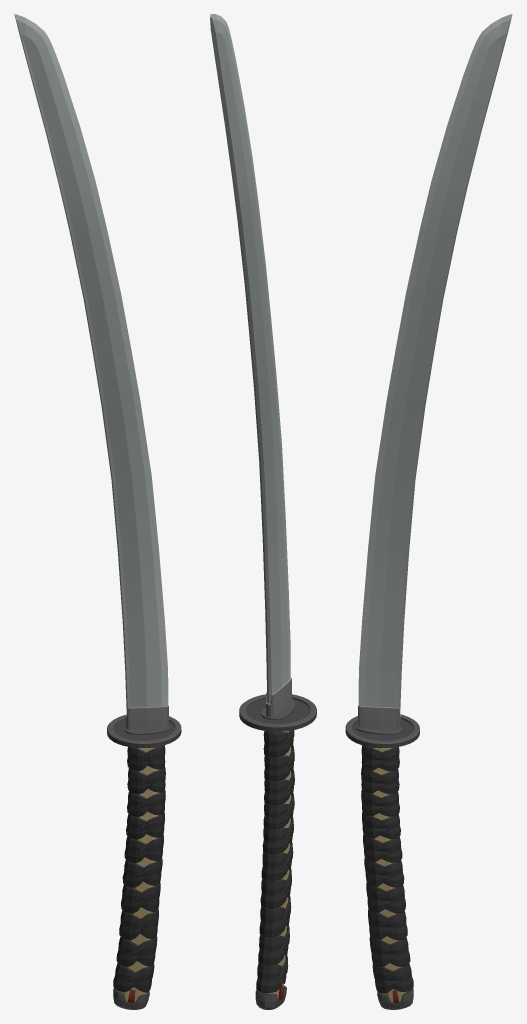
The model's file is bladedHeavyKatana.glb.
3 views of the same model, side by side, from view 1: azimuth 90°, elevation 25°; view 2: azimuth 150°, elevation 25°; view 3: azimuth 270°, elevation 25° (orthographic). The views are drawn at different scales.
Visible parts, largest first — view 1: bladedHeavyKatana; view 2: bladedHeavyKatana; view 3: bladedHeavyKatana.
Part boxes in pixels (x1,y1,x2,y2): bladedHeavyKatana: [14, 14, 181, 1009]; bladedHeavyKatana: [210, 14, 316, 1009]; bladedHeavyKatana: [345, 14, 512, 1009].
Bounding box in the file's own units: 0.0818 × 1.2 × 0.1831.
